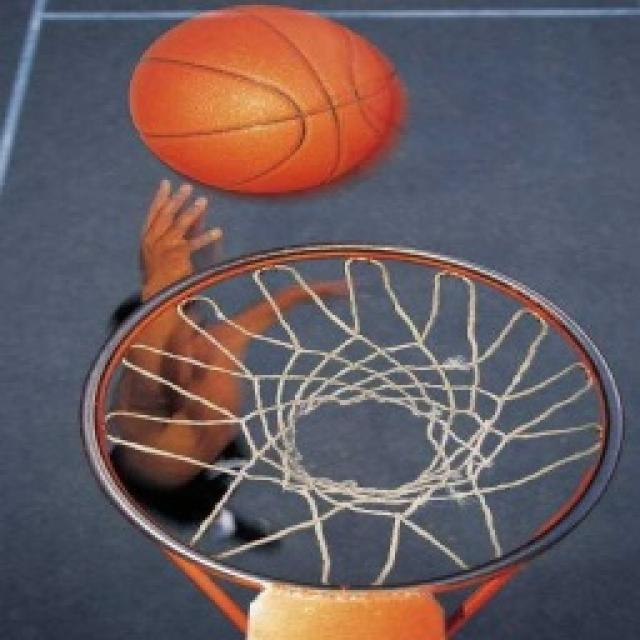rim: (120, 0, 411, 204)
